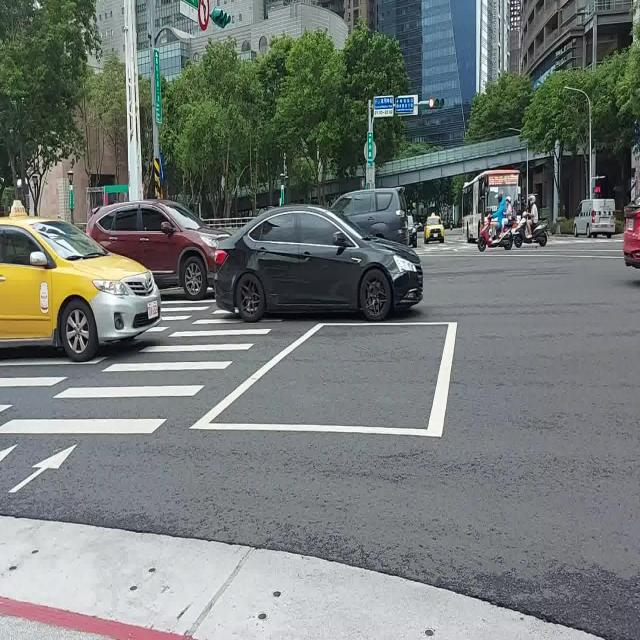bus: (461, 169, 520, 242)
car: (215, 204, 424, 322), (0, 213, 160, 362), (86, 200, 229, 300), (332, 187, 410, 244), (572, 198, 615, 238), (622, 198, 640, 268), (424, 216, 445, 244)
crosswalk: (0, 309, 275, 434), (0, 354, 108, 412), (145, 299, 216, 334)
motocycle: (478, 216, 512, 249), (512, 218, 548, 247)
